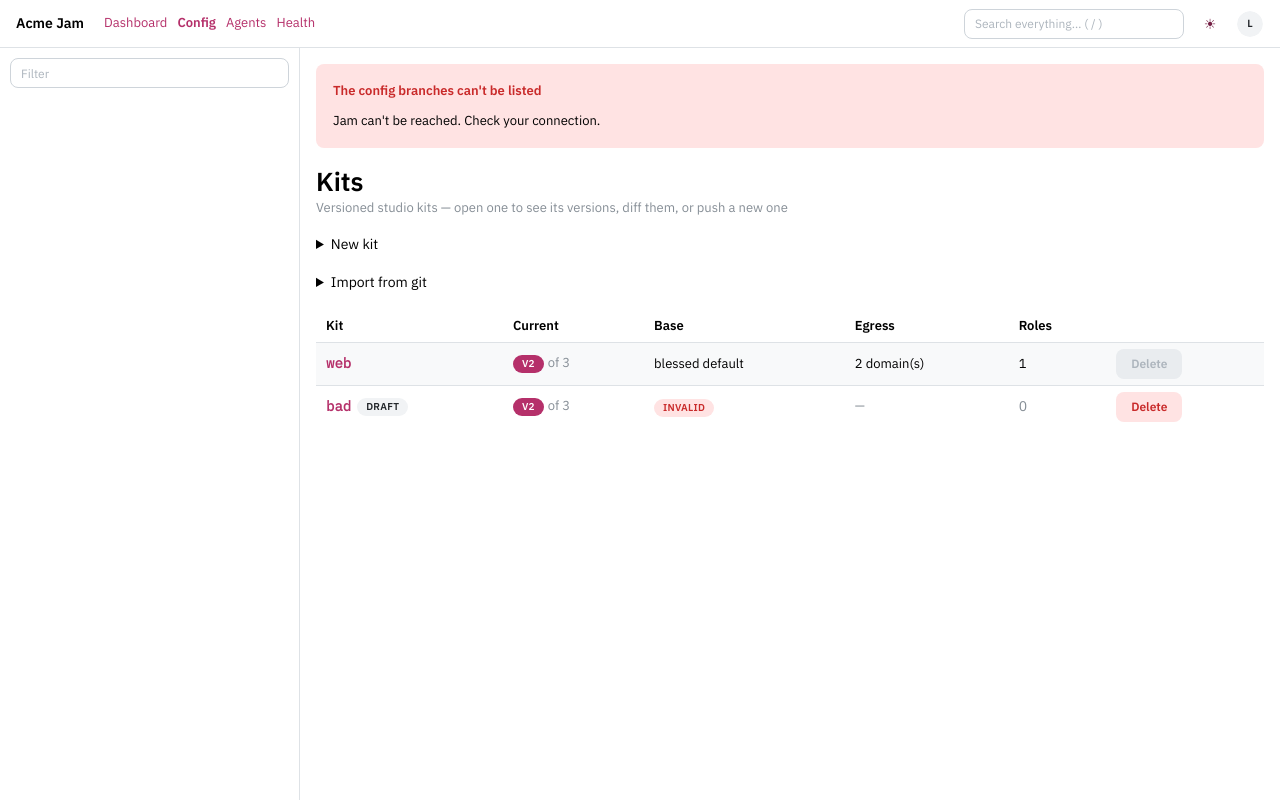
the kits list › imports from git, tracking by default
Step 1. Click the heading "Import from git" → (379, 282), box x1=331 y1=273 x2=427 y2=291
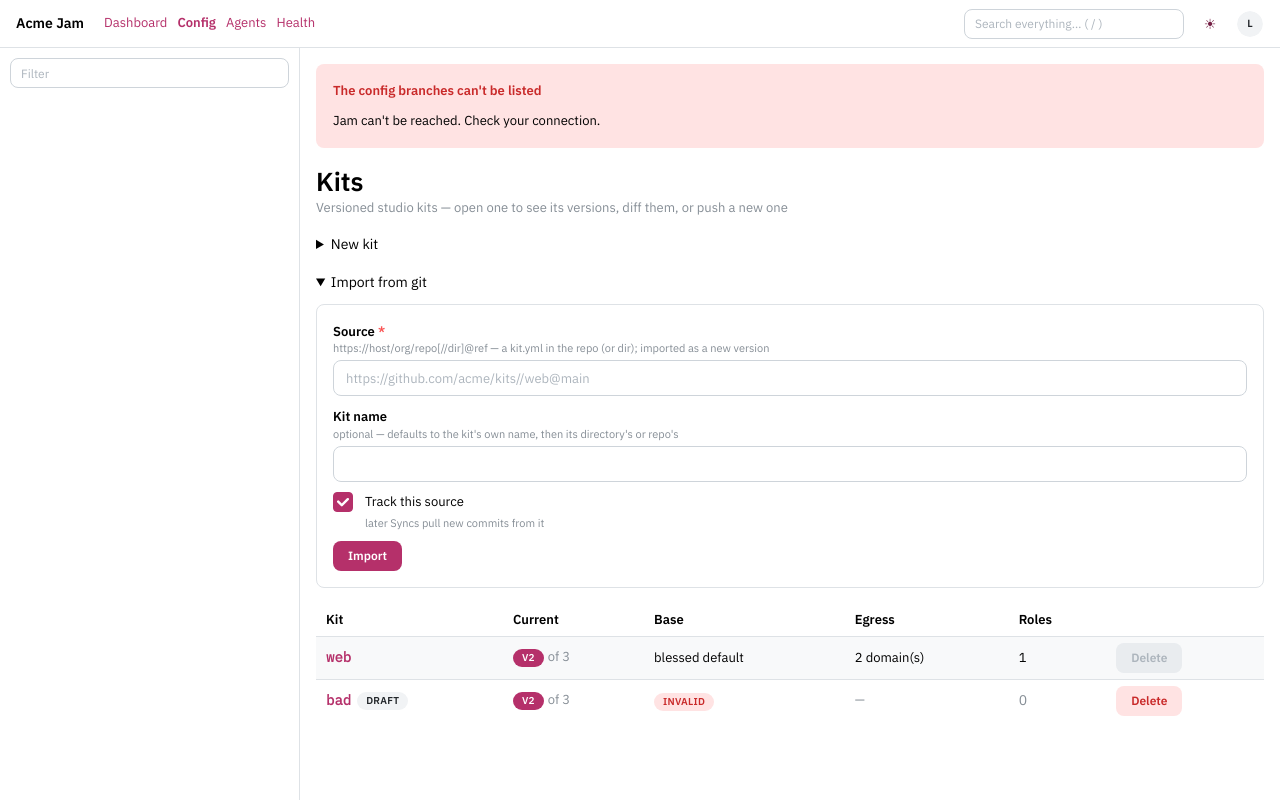
Step 2. Type "https://github.com/acme/kits@main" into the field labelled "Source *" → (790, 378), box x1=333 y1=360 x2=1247 y2=396
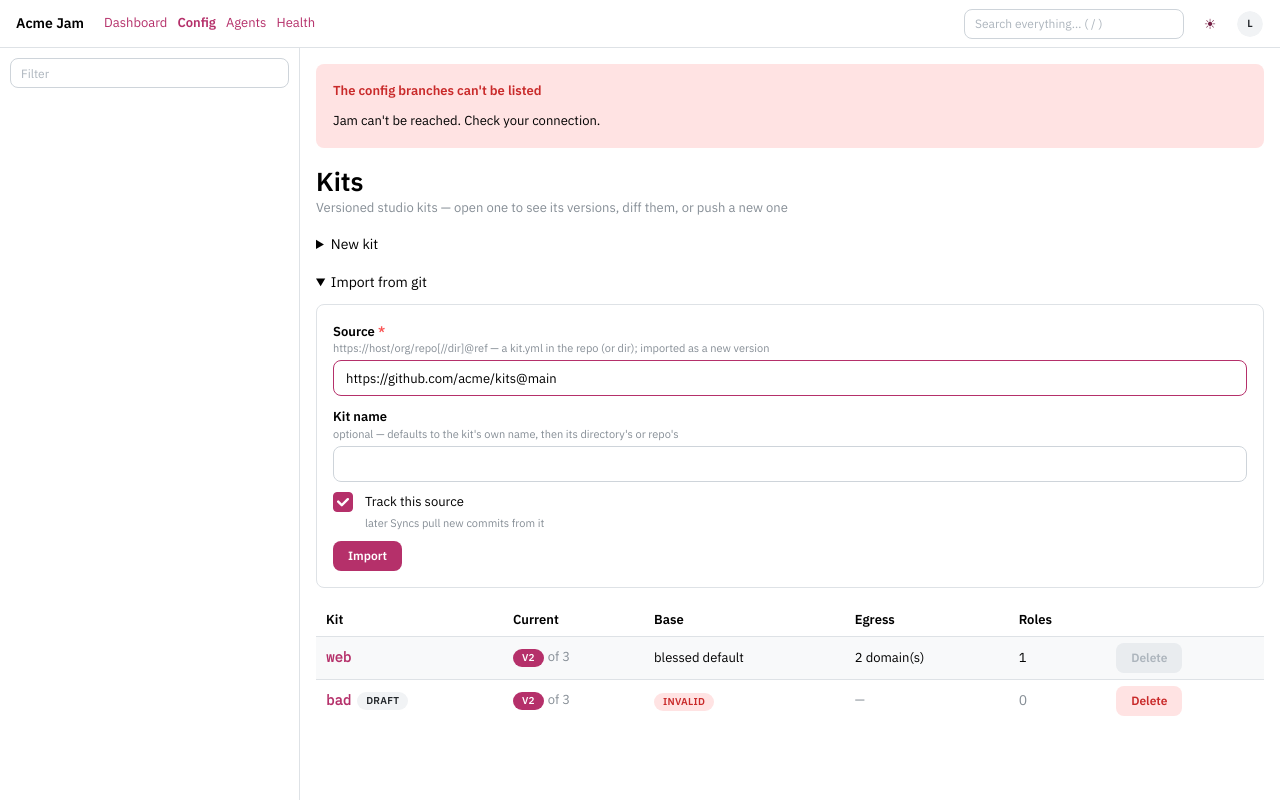
Step 3. Click the button "Import" → (368, 556), box x1=333 y1=540 x2=402 y2=570
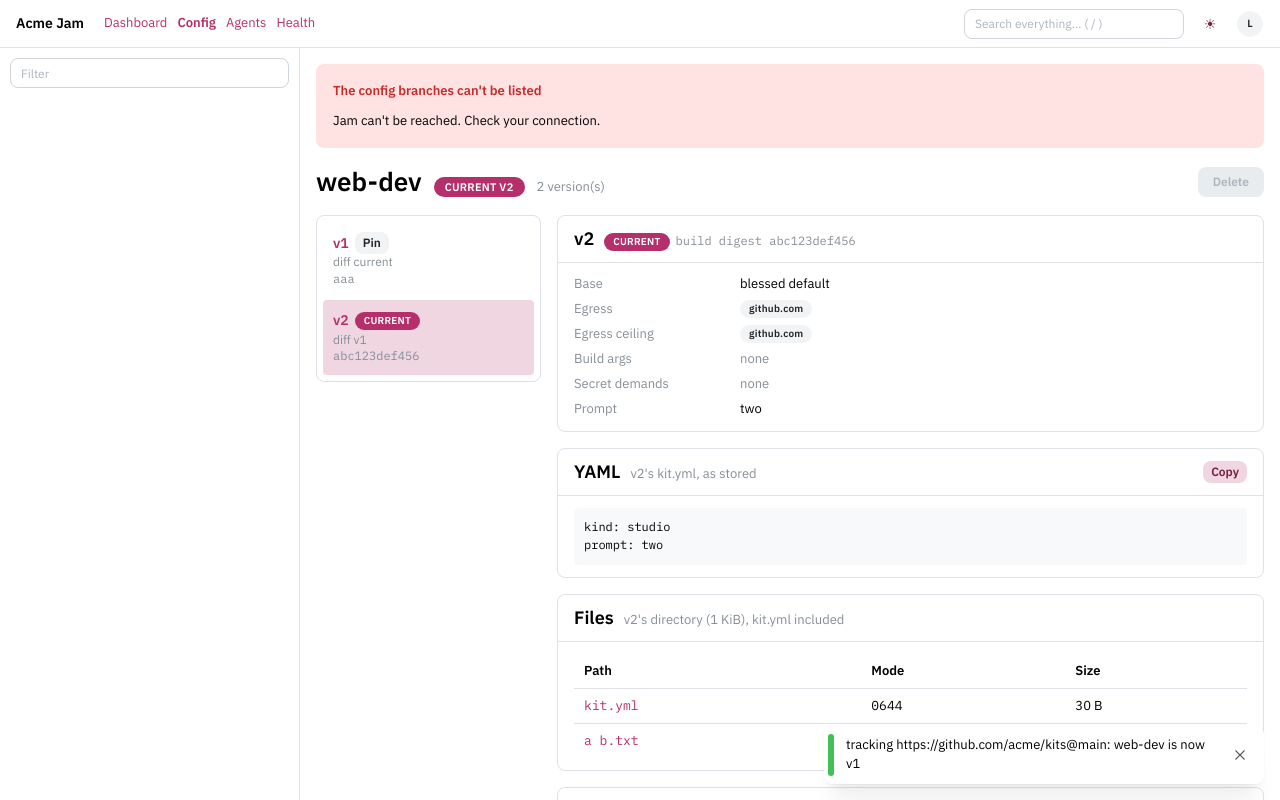
Expected: the text "tracking https://github.com/acme/kits@main: web-dev is now v1" is shown, x1=846 y1=736 x2=1216 y2=774
